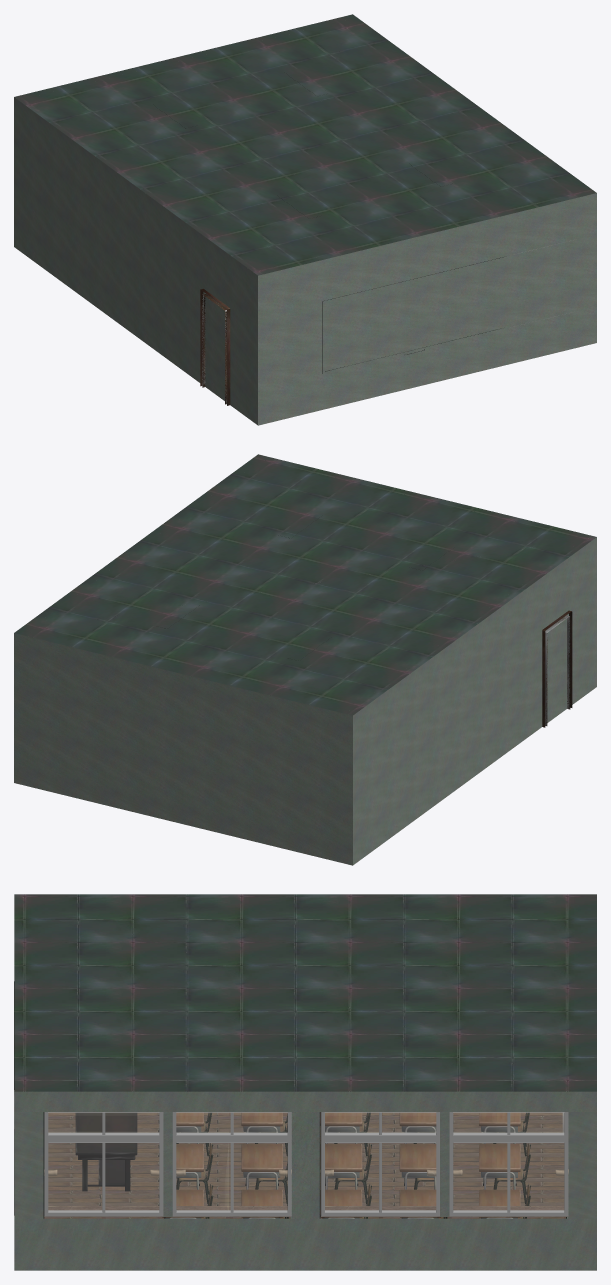
File: env_classroom.glb
3 views of the same model, one above another, from view 1: azimuth 30°, elevation 25°; view 2: azimuth 150°, elevation 25°; view 3: azimuth 270°, elevation 25° (orthographic). The views are drawn at different scales.
Visible parts, largest first — view 1: wall, ceilling, Door.001|Door_L_door.blend|Dupli|_door_0; view 2: wall, ceilling, Door.001|Door_L_door.blend|Dupli|_door_0; view 3: ceilling, wall, ground, Window.003|Glass_L_Window.blend|Dupli|2_glass_0, Window.002|Glass_L_Window.blend|Dupli|2_glass_0, Cube, Window.003|Window_L_Window.blend|Dupli|1_PlasticGrey_0, Window.002|Window_L_Window.blend|Dupli|1_PlasticGrey_0, wall.002, teacherDesk.001|teacherDesk_L_teacherDesk.blend|Dupli|_teach, wall.001, Window.003|WindowWoodPlate_L_Window.blend|Dupli|3_WindowWood (+3 smaller).
Part boxes in pixels (x1,y1,x2,y2): wall: [14, 97, 596, 425]; ceilling: [14, 14, 596, 275]; Door.001|Door_L_door.blend|Dupli|_door_0: [200, 288, 230, 405]; wall: [14, 537, 596, 865]; ceilling: [14, 454, 596, 715]; Door.001|Door_L_door.blend|Dupli|_door_0: [542, 610, 572, 727]; ceilling: [14, 894, 596, 1091]; wall: [14, 1091, 596, 1270]; ground: [44, 1112, 565, 1218]; Window.003|Glass_L_Window.blend|Dupli|2_glass_0: [48, 1113, 287, 1210]; Window.002|Glass_L_Window.blend|Dupli|2_glass_0: [325, 1113, 563, 1210]; Cube: [162, 1112, 520, 1218]; Window.003|Window_L_Window.blend|Dupli|1_PlasticGrey_0: [44, 1112, 291, 1216]; Window.002|Window_L_Window.blend|Dupli|1_PlasticGrey_0: [321, 1112, 568, 1216]; wall.002: [14, 1112, 596, 1218]; teacherDesk.001|teacherDesk_L_teacherDesk.blend|Dupli|_teach: [75, 1112, 137, 1191]; wall.001: [290, 1112, 320, 1218]; Window.003|WindowWoodPlate_L_Window.blend|Dupli|3_WindowWood: [44, 1206, 291, 1216].
Size of the model in its own units: 811 by 342 by 1004.
Materials: 23 (18 with a texture image).
